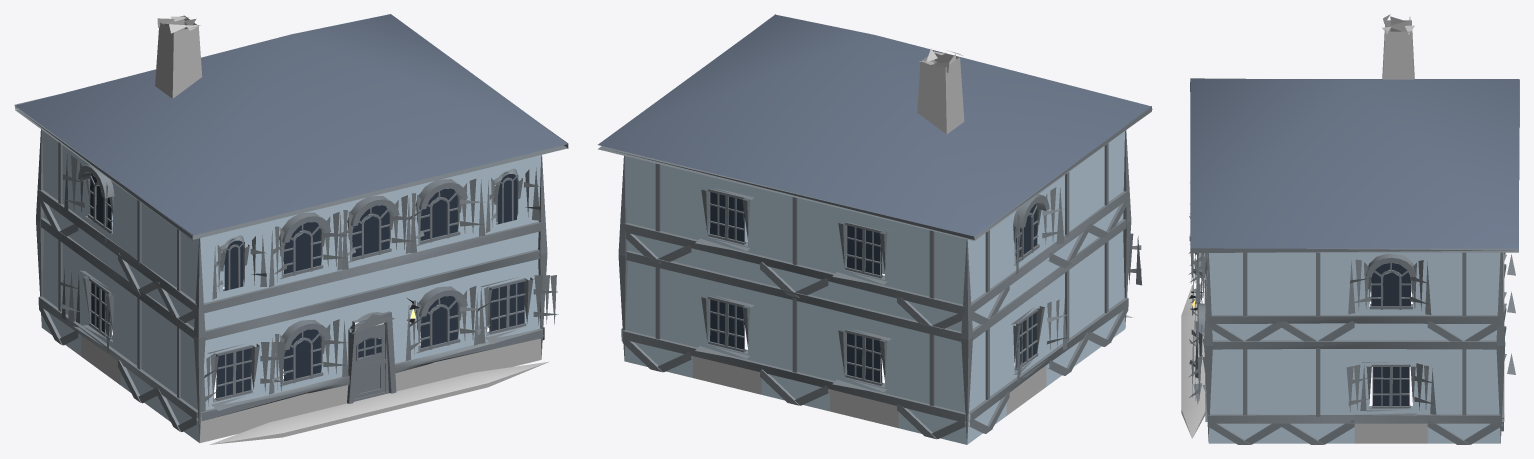
The model's file is generated.hip_house.gltf.
The picture shows the model from 3 angles, left to right: view 1: azimuth 30°, elevation 25°; view 2: azimuth 150°, elevation 25°; view 3: azimuth 270°, elevation 25°; orthographic projection. The views are drawn at different scales.
Parts seen in each view (by area): view 1: lod; view 2: lod; view 3: lod.
Part boxes in pixels (bbox=[...]): lod: bbox=[14, 14, 568, 444]; lod: bbox=[598, 14, 1152, 444]; lod: bbox=[1181, 14, 1519, 444].
Size of the model in its own units: 11.14 by 9.25 by 9.27.
